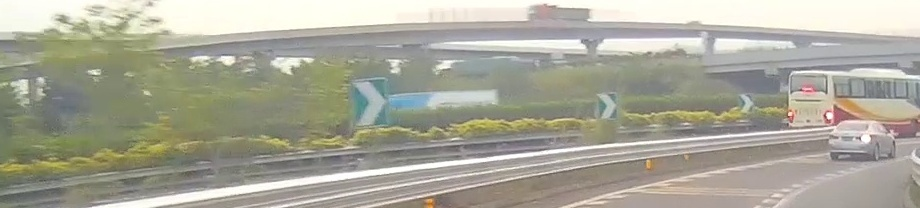L_light: (828, 134, 839, 139)
R_light: (857, 135, 872, 141)
T_light: (849, 123, 856, 125)
day-right: (828, 120, 874, 161)
